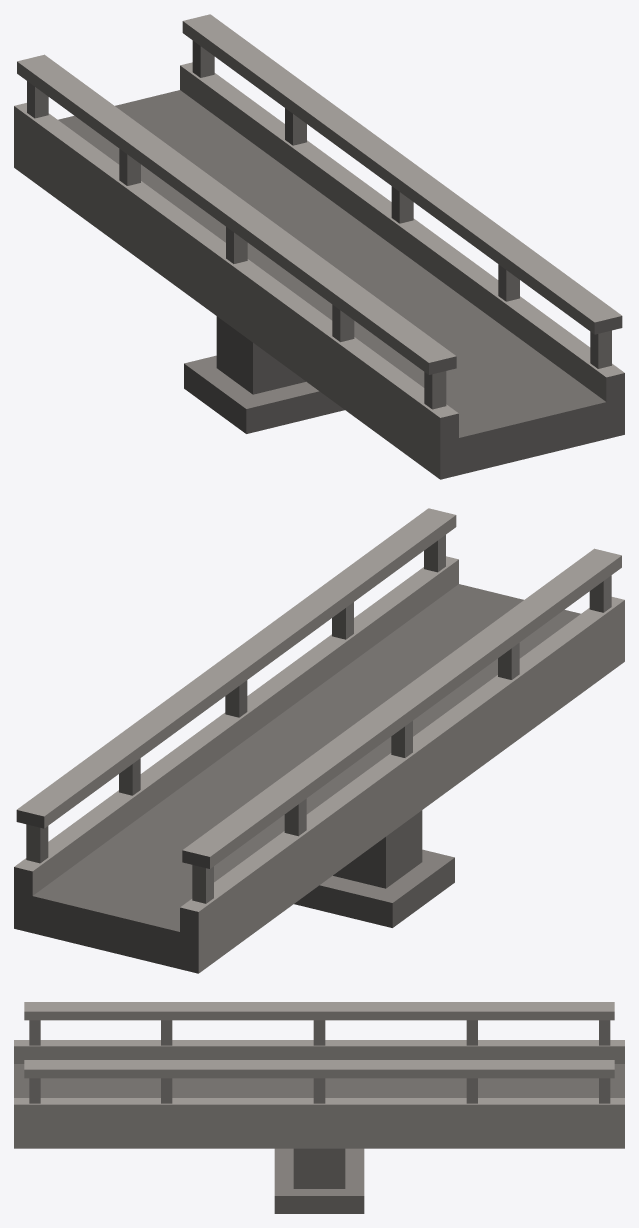
File: Env_Foot_Bridge.fbx
3 renders of one model, top to bottom at view 1: azimuth 30°, elevation 25°; view 2: azimuth 150°, elevation 25°; view 3: azimuth 270°, elevation 25°, orthographic. The views are drawn at different scales.
Parts seen in each view (by area): view 1: Env_Foot_Bridge; view 2: Env_Foot_Bridge; view 3: Env_Foot_Bridge.
Part boxes in pixels (x1,y1,x2,y2): Env_Foot_Bridge: [14, 14, 624, 479]; Env_Foot_Bridge: [14, 508, 624, 973]; Env_Foot_Bridge: [14, 1002, 624, 1213].
Size of the model in its own units: 5.66 by 5.11 by 20.
